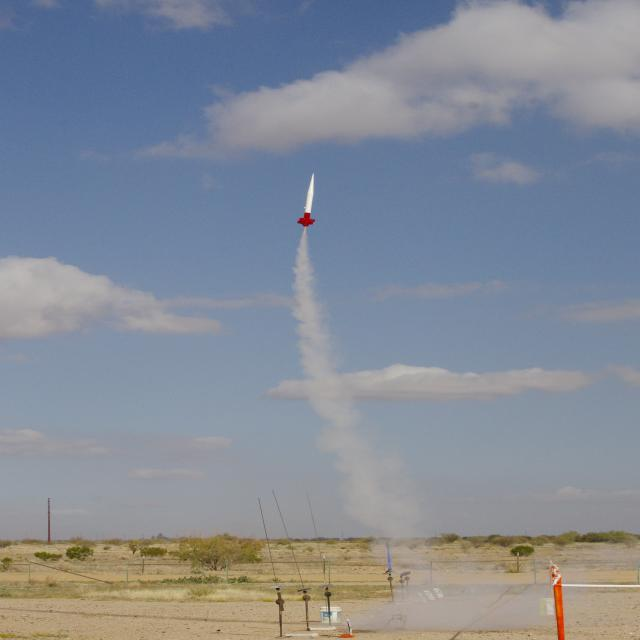Rocket: (297, 172, 315, 228)
